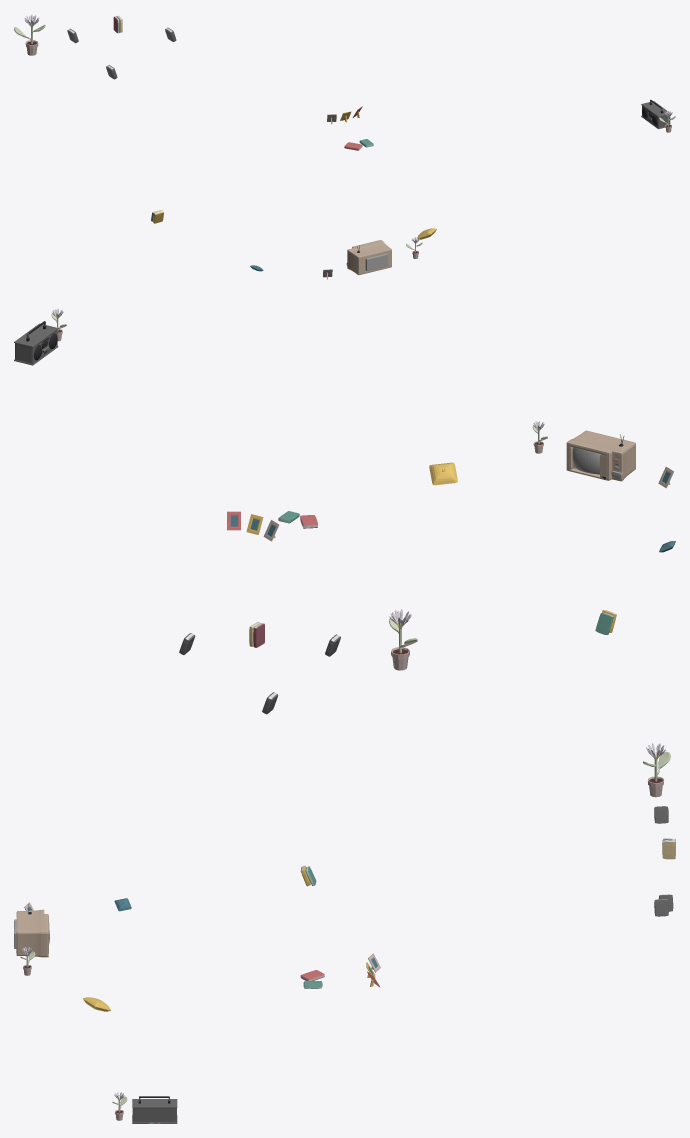
File: MovingObjects.fbx
3 renders of one model, top to bottom at view 1: azimuth 30°, elevation 25°; view 2: azimuth 150°, elevation 25°; view 3: azimuth 270°, elevation 25°, orthographic. The views are drawn at different scales.
Visible parts, largest first — view 1: TV, Radio, Flower_01; view 2: TV, Radio, Flower_01; view 3: TV, Radio, Flower_01.
Boxes of the visible parts, x1,y1,x2,y2 form: TV: (346,240,391,275); Radio: (641,99,670,129); Flower_01: (14,14,45,55); TV: (566,430,635,481); Radio: (14,321,58,365); Flower_01: (389,609,417,670); TV: (14,904,49,957); Radio: (132,1096,177,1123); Flower_01: (643,743,670,797).
Size of the model in its own units: 1904 by 447 by 1819.
